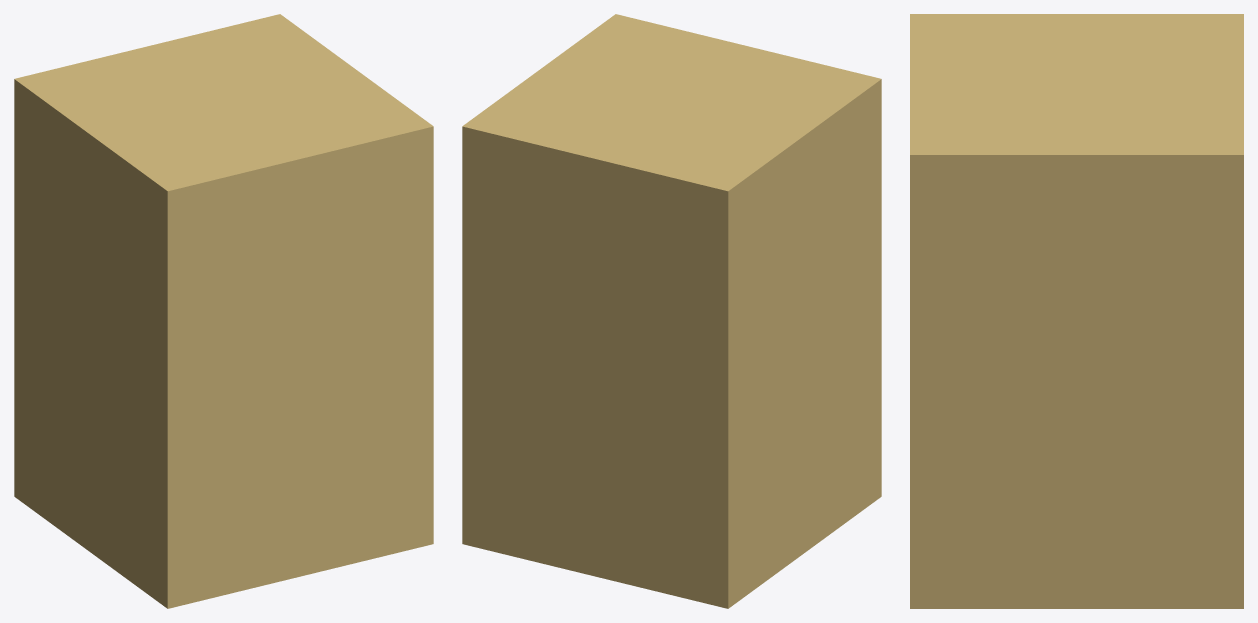
The model's file is caliper.obj.
3 views of the same model, side by side, from view 1: azimuth 30°, elevation 25°; view 2: azimuth 150°, elevation 25°; view 3: azimuth 270°, elevation 25° (orthographic). The views are drawn at different scales.
Parts seen in each view (by area): view 1: caliper; view 2: caliper; view 3: caliper.
Part boxes in pixels (bbox=[...]): caliper: bbox=[14, 14, 433, 608]; caliper: bbox=[462, 14, 881, 608]; caliper: bbox=[910, 14, 1243, 608].
Bounding box in the file's own units: 0.125 × 0.1875 × 0.125.
